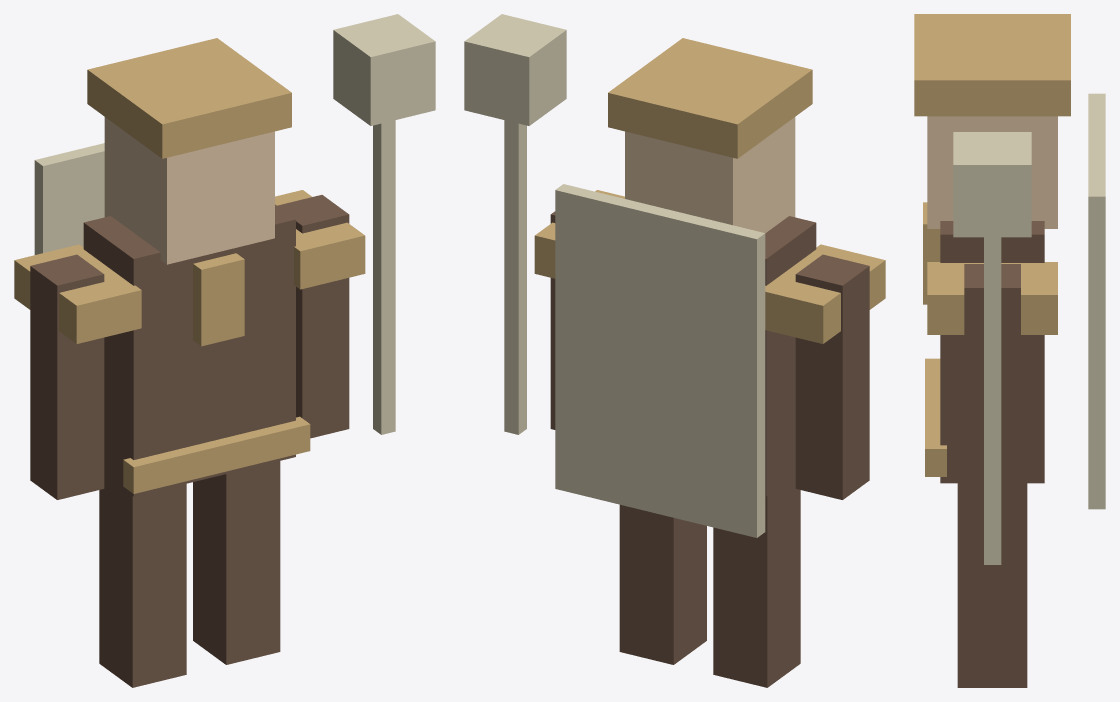
File: 10_rook_rootborne_ranger_at_deep.glb
The picture shows the model from 3 angles, left to right: view 1: azimuth 30°, elevation 25°; view 2: azimuth 150°, elevation 25°; view 3: azimuth 270°, elevation 25°; orthographic projection. The views are drawn at different scales.
Parts seen in each view (by area): view 1: Rook Rootborne, Ranger at Deep; view 2: Rook Rootborne, Ranger at Deep; view 3: Rook Rootborne, Ranger at Deep.
Boxes of the visible parts, left/top/right/bottom form: Rook Rootborne, Ranger at Deep: left=14, top=14, right=435, bottom=687; Rook Rootborne, Ranger at Deep: left=464, top=14, right=885, bottom=687; Rook Rootborne, Ranger at Deep: left=914, top=14, right=1105, bottom=687.
Bounding box in the file's own units: 1.07 × 1.58 × 0.4549.
